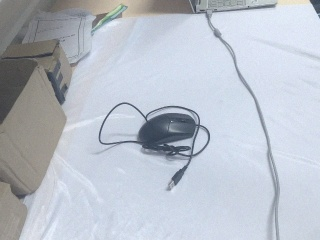box: (1, 58, 69, 196), (1, 39, 74, 105), (1, 177, 29, 240)
mouse: (137, 112, 196, 149)
